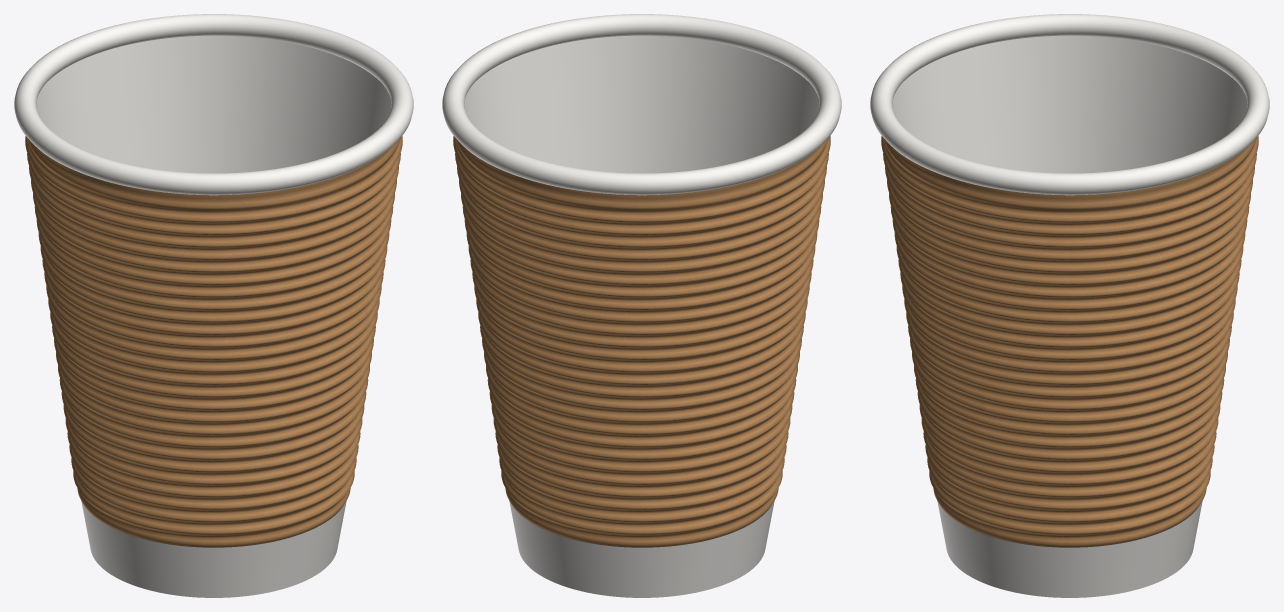
The model's file is glass.glb.
3 renders of one model, left to right at view 1: azimuth 30°, elevation 25°; view 2: azimuth 150°, elevation 25°; view 3: azimuth 270°, elevation 25°, orthographic.
Parts seen in each view (by area): view 1: Kraft ribbed wall, White inner wall, White rolled lip, White bottom collar; view 2: Kraft ribbed wall, White inner wall, White rolled lip, White bottom collar; view 3: Kraft ribbed wall, White inner wall, White rolled lip, White bottom collar.
Part boxes in pixels (x1,y1,x2,y2): Kraft ribbed wall: [25, 136, 402, 547]; White inner wall: [36, 35, 391, 173]; White rolled lip: [14, 14, 413, 195]; White bottom collar: [81, 501, 346, 597]; Kraft ribbed wall: [453, 136, 830, 547]; White inner wall: [464, 35, 819, 173]; White rolled lip: [442, 14, 841, 195]; White bottom collar: [509, 501, 774, 597]; Kraft ribbed wall: [881, 136, 1258, 547]; White inner wall: [892, 35, 1247, 173]; White rolled lip: [870, 14, 1269, 195]; White bottom collar: [937, 501, 1202, 597].
Size of the model in its own units: 0.0953 by 0.1186 by 0.0953.
2 materials, 1 textured.
